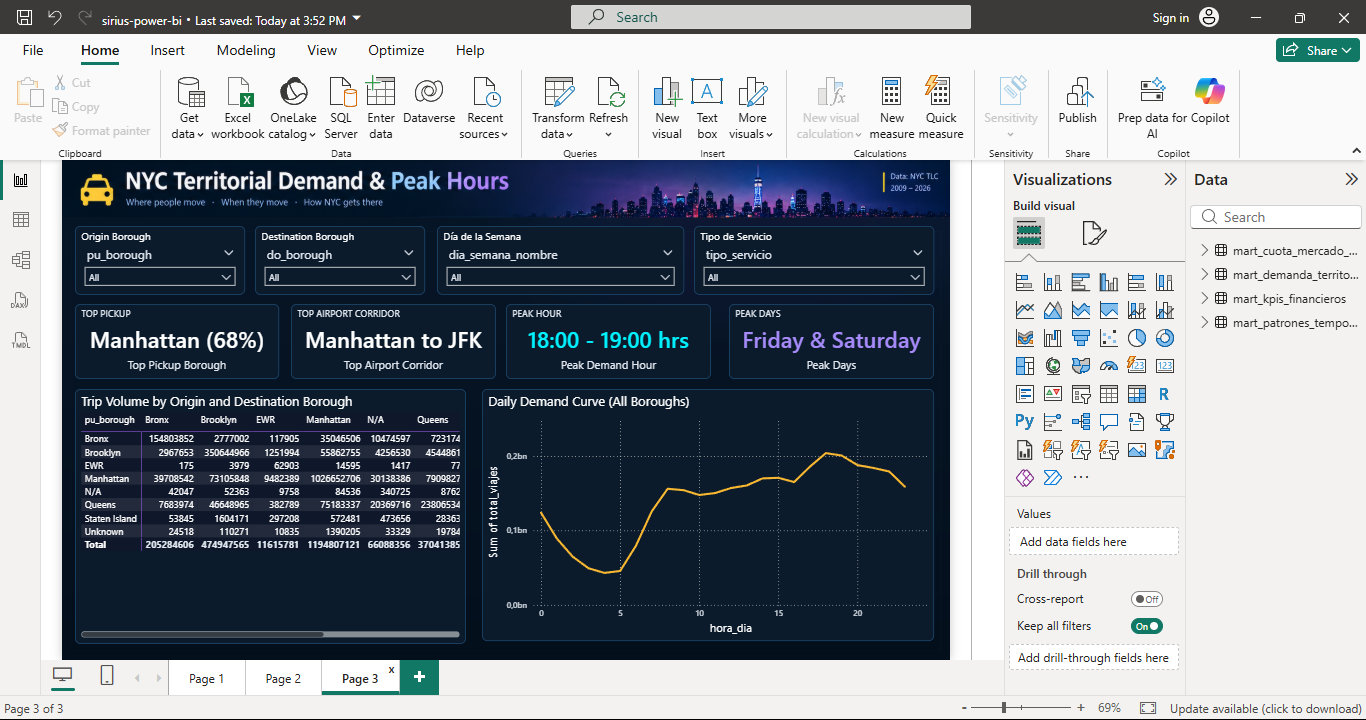

Layout of this report page (visuals, bound fields, positions):
{"tool":"powerbi","page":{"name":"Page 3","canvas":[1280,720],"ordinal":2},"visuals":[{"type":"card","title":"TOP PICKUP","fields":{"Values":["mart_demanda_territorial.Top Pickup Borough"]},"box":[18.7,207.4,293.8,108],"z":5},{"type":"card","title":"TOP AIRPORT CORRIDOR","fields":{"Values":["mart_demanda_territorial.Top Airport Corridor"]},"box":[329.8,207.4,295.2,108],"z":5},{"type":"card","title":"PEAK HOUR","fields":{"Values":["mart_patrones_temporales.Peak Demand Hour"]},"box":[639.4,207.4,295.2,108],"z":5},{"type":"card","title":"PEAK DAYS","fields":{"Values":["mart_patrones_temporales.Peak Days"]},"box":[960.5,207.4,295.2,108],"z":5},{"type":"slicer","title":"Origin Borough","fields":{"Values":["mart_demanda_territorial.pu_borough"]},"box":[18.7,95,244.8,99.4],"z":8},{"type":"slicer","title":"Destination Borough","fields":{"Values":["mart_demanda_territorial.do_borough"]},"box":[277.9,95,244.8,99.4],"z":8},{"type":"slicer","title":"Día de la Semana","fields":{"Values":["mart_patrones_temporales.dia_semana_nombre"]},"box":[540,95,355.7,99.4],"z":8},{"type":"slicer","title":"Tipo de Servicio","fields":{"Values":["mart_patrones_temporales.tipo_servicio"]},"box":[910.1,95,345.6,99.4],"z":8},{"type":"pivotTable","title":"Trip Volume by Origin and Destination Borough","fields":{"Columns":["mart_demanda_territorial.do_borough"],"Rows":["mart_demanda_territorial.pu_borough"],"Values":["Sum(mart_demanda_territorial.total_viajes)"]},"box":[18.7,329.8,563,367.2],"z":10},{"type":"lineChart","title":"Daily Demand Curve (All Boroughs)","fields":{"Category":["mart_patrones_temporales.hora_dia"],"Y":["Sum(mart_patrones_temporales.total_viajes)"]},"box":[604.8,329.8,650.9,362.9],"z":10}]}

Visuals, with their boxes on the page's 1280x720 design canvas (x1, y1, x2, y2). These are canvas units, not pixel positions in the 1366x720 screenshot, which may show the page scaled, cropped or inside an application window:
"TOP PICKUP" card: pyautogui.locateOnScreen(19, 207, 312, 315)
"TOP AIRPORT CORRIDOR" card: pyautogui.locateOnScreen(330, 207, 625, 315)
"PEAK HOUR" card: pyautogui.locateOnScreen(639, 207, 935, 315)
"PEAK DAYS" card: pyautogui.locateOnScreen(960, 207, 1256, 315)
"Origin Borough" slicer: pyautogui.locateOnScreen(19, 95, 264, 194)
"Destination Borough" slicer: pyautogui.locateOnScreen(278, 95, 523, 194)
"Día de la Semana" slicer: pyautogui.locateOnScreen(540, 95, 896, 194)
"Tipo de Servicio" slicer: pyautogui.locateOnScreen(910, 95, 1256, 194)
"Trip Volume by Origin and Destination Borough" pivotTable: pyautogui.locateOnScreen(19, 330, 582, 697)
"Daily Demand Curve (All Boroughs)" lineChart: pyautogui.locateOnScreen(605, 330, 1256, 693)
